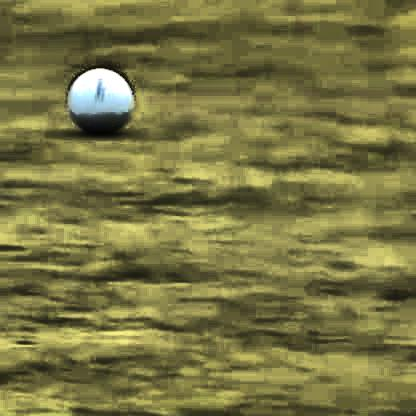golfball: (65, 65, 133, 133)
